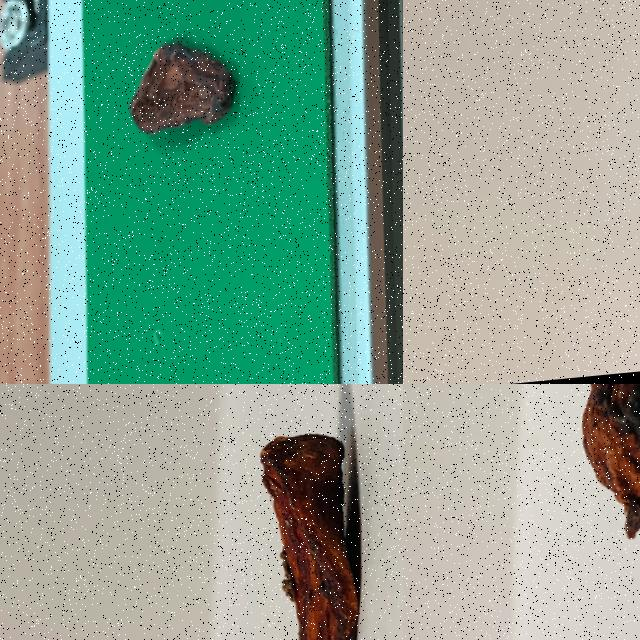Flat_cocoabeans: (215, 384, 394, 639), (105, 0, 267, 201), (540, 384, 639, 614)
